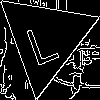L: (20, 14, 61, 66)
